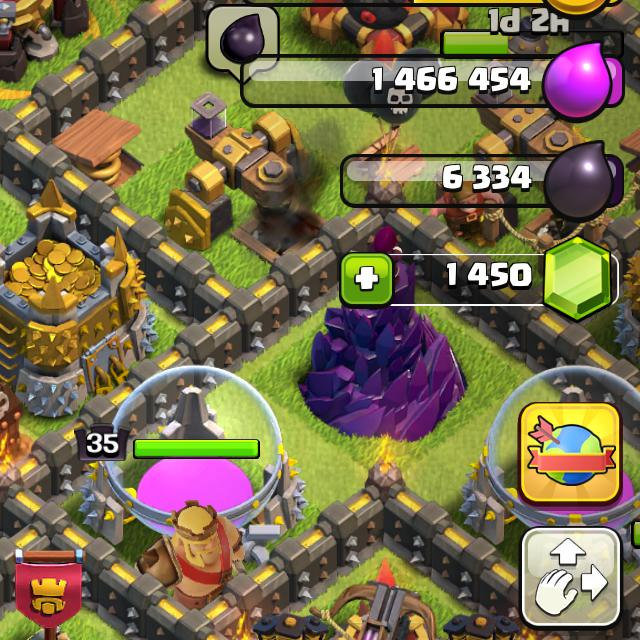ElixirNegro: (210, 7, 278, 55)
